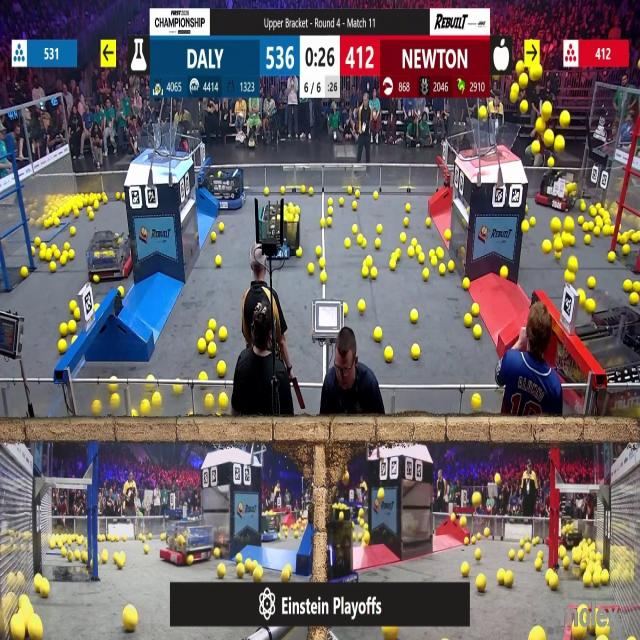ball_airborne: (543, 131, 553, 147), (530, 66, 541, 80), (561, 111, 570, 127), (512, 86, 520, 103), (472, 492, 481, 507), (542, 102, 550, 118), (556, 136, 564, 151), (520, 74, 529, 87), (479, 106, 488, 118), (536, 118, 544, 131), (521, 100, 528, 114), (517, 62, 525, 74), (532, 141, 539, 153), (495, 475, 501, 486), (379, 488, 385, 499), (547, 159, 553, 168)
ball_ground: (125, 608, 138, 633), (530, 628, 544, 639), (384, 347, 394, 362), (471, 394, 481, 409), (217, 360, 226, 376), (478, 577, 487, 593), (503, 570, 512, 586), (40, 582, 49, 598), (550, 574, 559, 589), (110, 393, 119, 408), (218, 393, 227, 408), (93, 402, 102, 417), (252, 567, 262, 580), (564, 218, 574, 231), (59, 340, 68, 354), (587, 300, 596, 314), (553, 218, 562, 232), (282, 567, 291, 581), (141, 400, 150, 414), (541, 241, 551, 253), (208, 343, 216, 358), (497, 569, 505, 584), (594, 571, 602, 586), (569, 259, 577, 273), (461, 562, 469, 576), (412, 345, 420, 359), (206, 394, 214, 408), (601, 570, 609, 584), (565, 272, 574, 284), (218, 327, 226, 340), (374, 327, 382, 340), (237, 564, 245, 577), (198, 340, 206, 353), (60, 323, 68, 336), (584, 573, 592, 586), (218, 564, 225, 578), (630, 292, 638, 304), (357, 301, 365, 313), (624, 280, 632, 292), (464, 314, 472, 326), (555, 240, 563, 252), (174, 384, 182, 396), (116, 557, 124, 569), (109, 380, 117, 392), (473, 325, 480, 338), (412, 310, 419, 323), (522, 220, 530, 231), (631, 234, 639, 245), (622, 233, 630, 244), (462, 278, 469, 290), (369, 268, 376, 280), (589, 277, 596, 289), (500, 268, 507, 280), (440, 265, 447, 277), (69, 321, 76, 333), (602, 224, 610, 234), (608, 251, 615, 262), (563, 558, 570, 569), (585, 235, 592, 246), (438, 248, 445, 259), (81, 552, 88, 563), (471, 305, 477, 317), (579, 292, 585, 304), (423, 269, 429, 281), (102, 552, 108, 564), (594, 226, 602, 235), (209, 320, 216, 330), (389, 262, 396, 272), (534, 560, 541, 570), (22, 268, 29, 278), (409, 247, 416, 257), (568, 236, 575, 246), (207, 330, 214, 340), (445, 231, 452, 241), (507, 550, 514, 560), (555, 250, 562, 260), (525, 542, 532, 552), (94, 202, 101, 212), (449, 262, 455, 273), (320, 272, 326, 283), (634, 281, 640, 292), (559, 548, 565, 559), (617, 234, 623, 245), (200, 373, 208, 381), (61, 256, 68, 265), (518, 552, 525, 561), (69, 250, 76, 259), (590, 207, 597, 216), (215, 256, 221, 266), (474, 550, 480, 560), (624, 245, 630, 255), (50, 264, 56, 274), (419, 253, 425, 263), (309, 265, 315, 275), (316, 246, 322, 256), (362, 268, 368, 278), (377, 223, 383, 233), (237, 554, 243, 564), (399, 234, 405, 244), (211, 233, 217, 243), (365, 256, 371, 266), (319, 258, 325, 268), (74, 310, 80, 320), (352, 202, 358, 212), (214, 549, 220, 559), (187, 556, 193, 566), (75, 551, 81, 561), (39, 250, 45, 260), (70, 302, 76, 312), (608, 225, 614, 235), (460, 517, 466, 527), (94, 276, 101, 284), (428, 250, 435, 258), (295, 248, 301, 257), (218, 222, 224, 231), (530, 217, 536, 226), (577, 215, 583, 224), (70, 226, 76, 235), (431, 256, 437, 265), (34, 238, 40, 247), (596, 216, 602, 225), (61, 549, 67, 558), (579, 562, 585, 571), (346, 239, 351, 249), (344, 305, 349, 315), (326, 217, 331, 227), (68, 551, 73, 561), (46, 251, 51, 261), (352, 224, 358, 232), (360, 240, 366, 248), (416, 246, 422, 254), (354, 190, 360, 198), (90, 212, 96, 220), (132, 411, 138, 419), (348, 186, 354, 194), (536, 552, 542, 560), (299, 185, 305, 193), (390, 252, 396, 260), (532, 537, 538, 545), (376, 240, 381, 249), (395, 249, 400, 258), (320, 218, 325, 227), (584, 222, 589, 231), (579, 203, 584, 212), (56, 250, 61, 259), (74, 209, 79, 218), (407, 205, 413, 212), (524, 206, 530, 213), (426, 217, 430, 227), (403, 218, 408, 226), (340, 199, 345, 207), (413, 239, 418, 247), (144, 544, 149, 552), (327, 199, 332, 207), (148, 374, 153, 382), (470, 535, 475, 543), (520, 538, 525, 546), (485, 528, 490, 536), (56, 218, 61, 226), (309, 187, 314, 195), (474, 538, 479, 546), (32, 247, 36, 256), (327, 208, 332, 215), (65, 243, 70, 250), (71, 337, 76, 344), (140, 533, 145, 540), (99, 534, 104, 541), (116, 191, 120, 199), (266, 187, 270, 195), (373, 194, 377, 202), (119, 287, 123, 295), (120, 191, 124, 199), (104, 197, 108, 205), (464, 537, 468, 544), (280, 186, 284, 193), (162, 533, 166, 540), (148, 536, 152, 542), (294, 534, 298, 540), (188, 412, 192, 418), (123, 535, 126, 541)
goal: (466, 123, 522, 159), (130, 130, 188, 160)
robot_blue: (256, 197, 302, 260), (202, 165, 244, 211), (260, 512, 283, 544)
robot_red: (556, 330, 634, 414), (161, 517, 212, 564), (87, 231, 131, 280), (537, 168, 579, 212), (559, 517, 584, 547)
